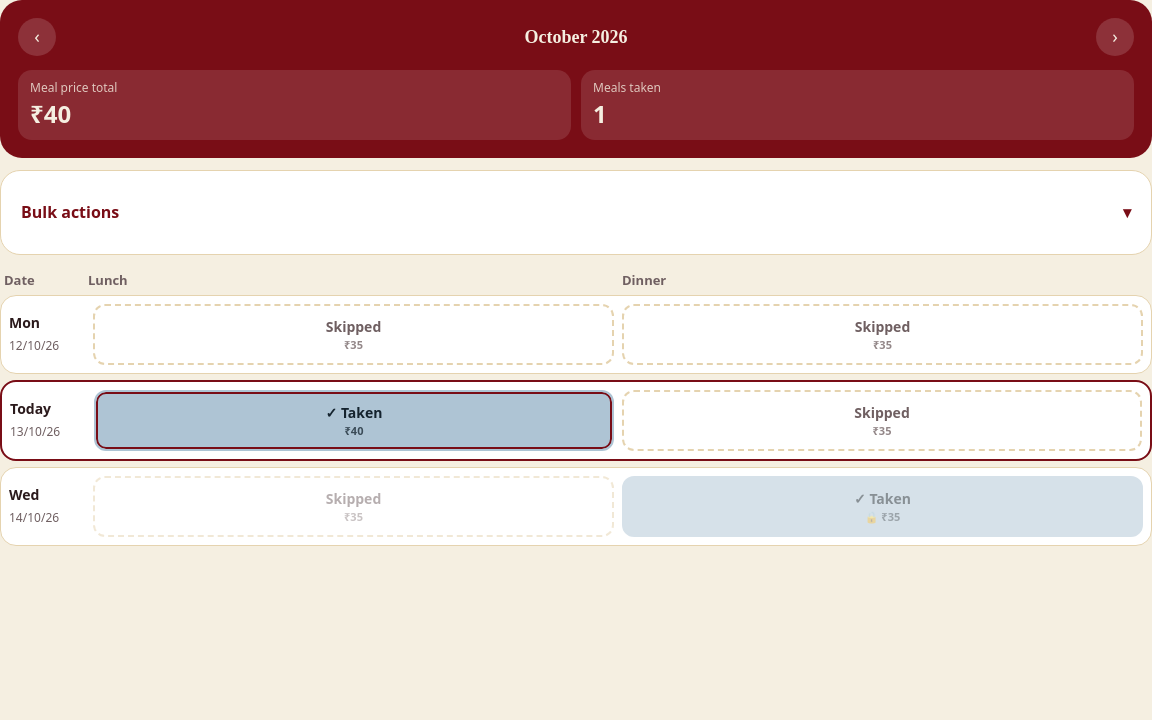
Test: resetting price with a cold settings cache fetches defaults instead of showing 0
What coordinates should you click on to do the following:
click the button named "Lunch on 13/10/26"
I would click on:
 (354, 420)
Its box is [94,390,614,451].
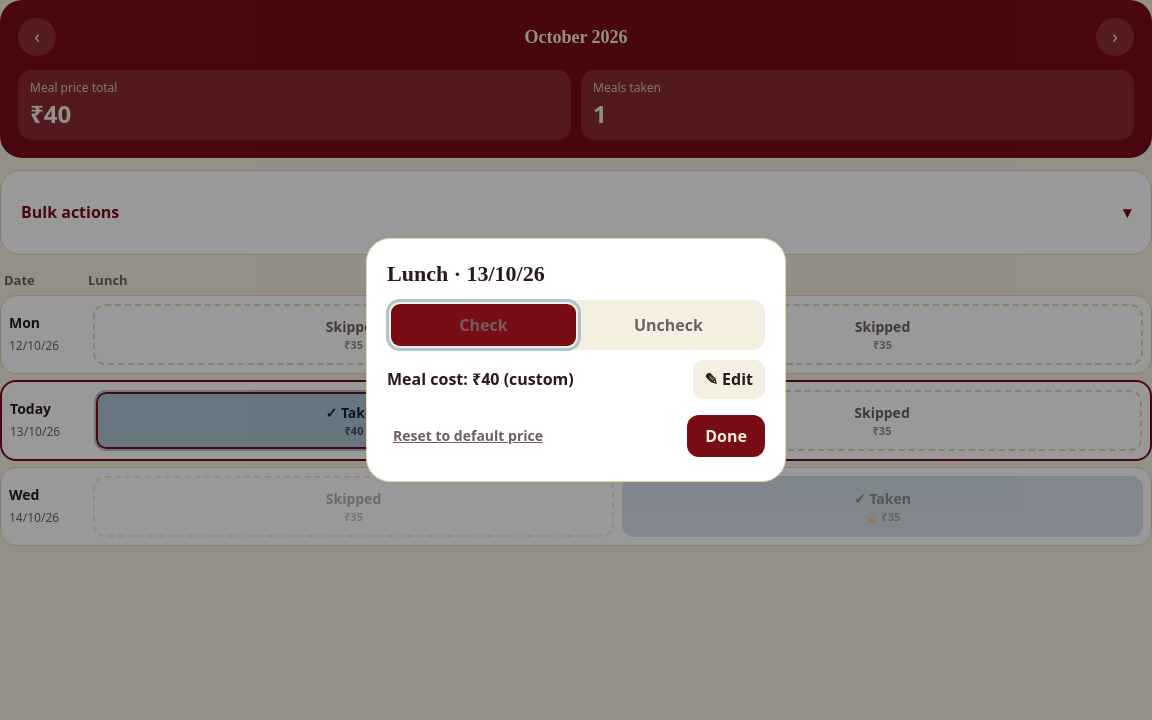
What coordinates should you click on to do the following:
click the button "Reset to default price"
I would click on:
 (468, 436)
Its box is [387,425,549,447].
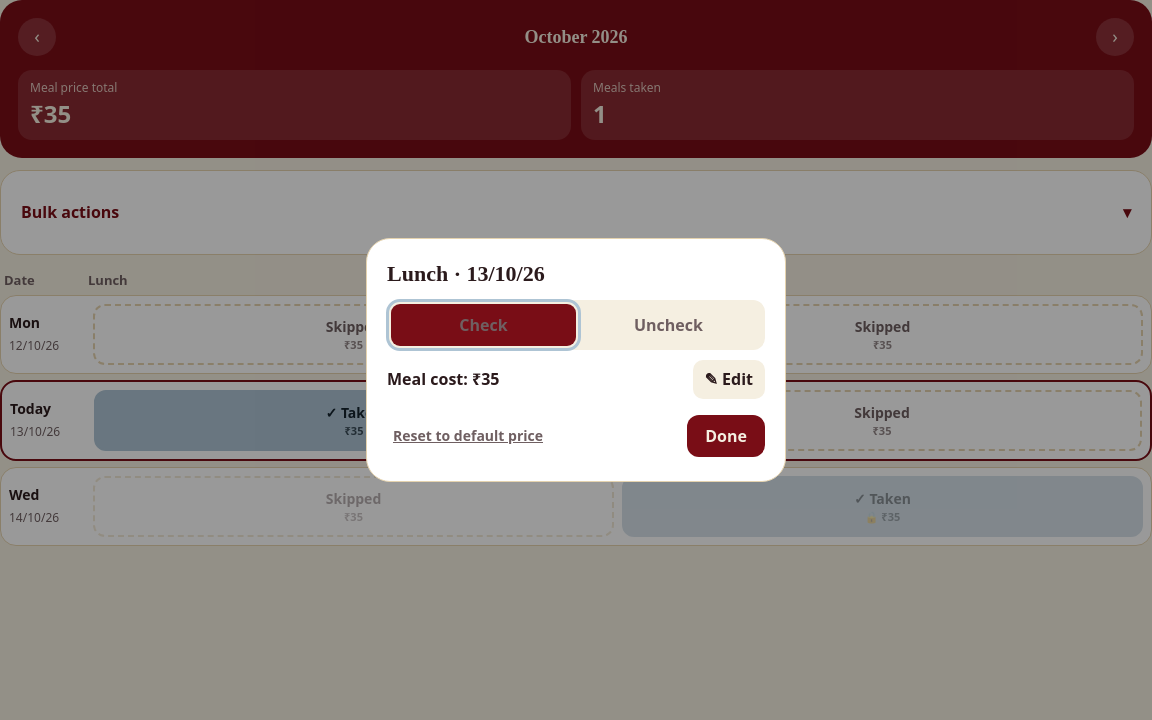
Check: the button named "Lunch on 13/10/26" shows "₹35", box [94,390,614,451]
